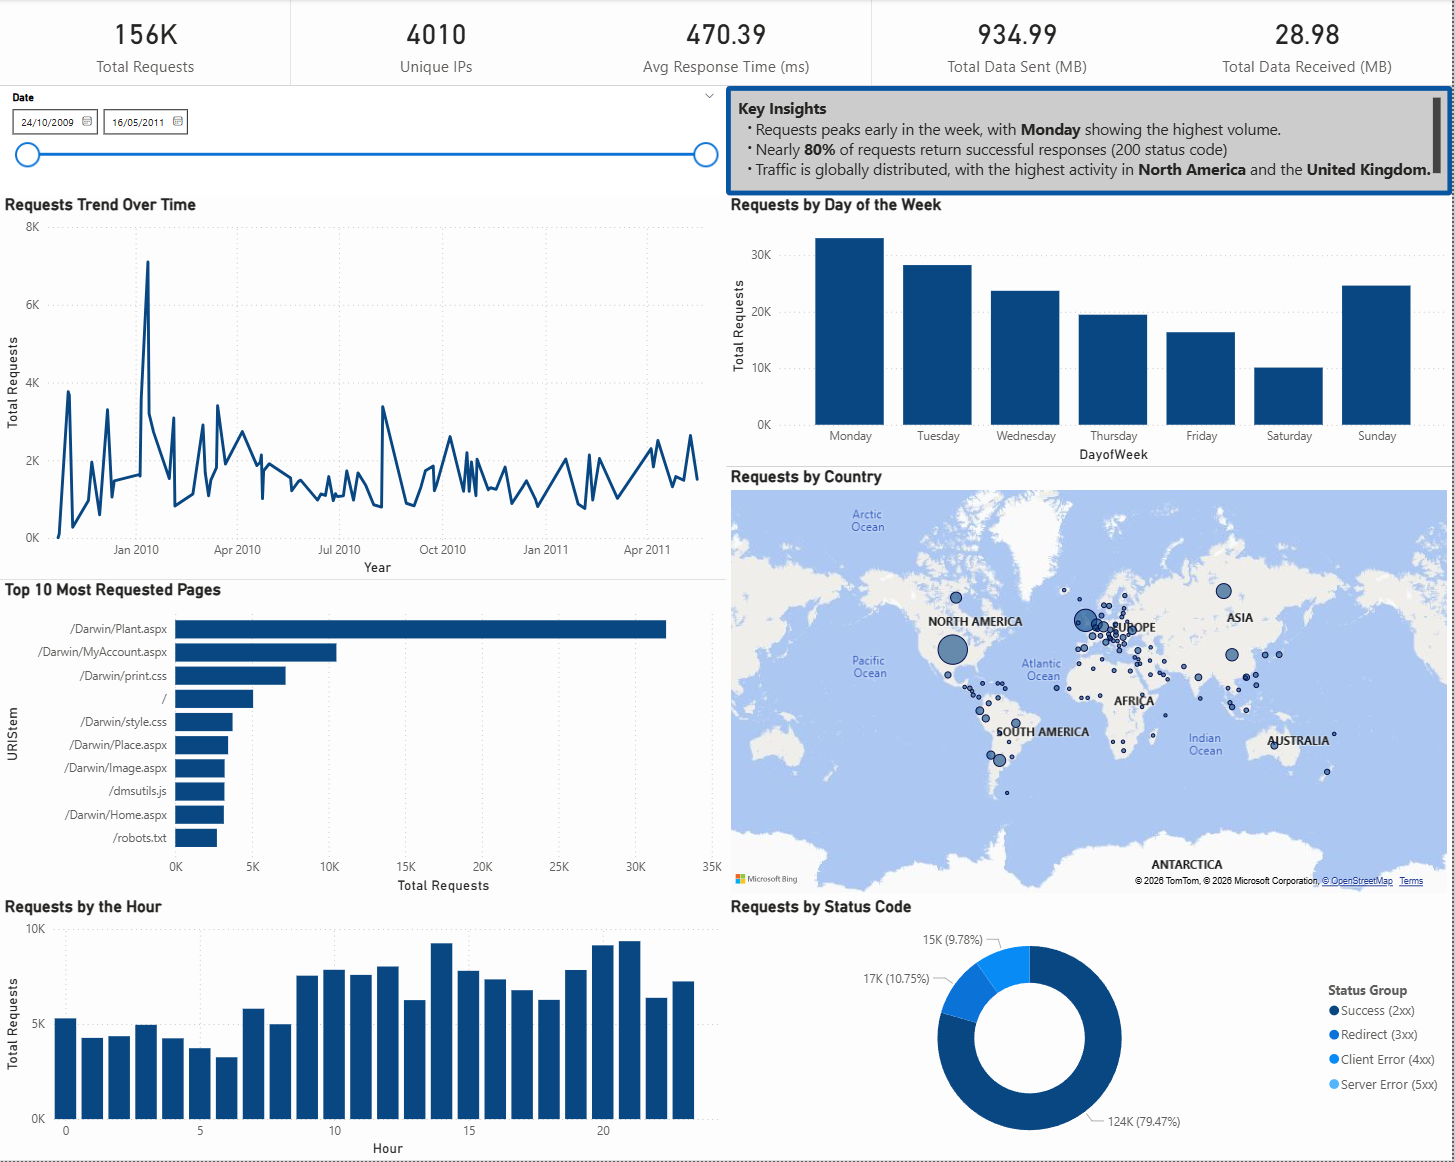

This screenshot's page, from the dashboard's own definition file:
{"tool":"powerbi","page":{"name":"Overview of Total Activity","canvas":[1500,1200],"ordinal":0},"visuals":[{"type":"card","fields":{"Values":["FactTable.Total Requests"]},"box":[0,0,300,89.5],"z":0},{"type":"card","fields":{"Values":["FactTable.Unique IPs"]},"box":[300,0,300,89.3],"z":1000},{"type":"card","fields":{"Values":["FactTable.Avg Response Time"]},"box":[600,0,300,89.3],"z":2000},{"type":"card","fields":{"Values":["FactTable.Total MB Sent"]},"box":[900,0,300,89.3],"z":3000},{"type":"card","fields":{"Values":["FactTable.Total MB Received"]},"box":[1200,0,300,89.3],"z":4000},{"type":"lineChart","title":"Requests Trend Over Time","fields":{"Y":["FactTable.Total Requests"],"Category":["DimDateTable.Date.Variation.Date Hierarchy.Year","DimDateTable.Date.Variation.Date Hierarchy.Quarter","DimDateTable.Date.Variation.Date Hierarchy.Month","DimDateTable.Date.Variation.Date Hierarchy.Day"]},"box":[0,202.6,750,397.4],"z":5000},{"type":"clusteredColumnChart","title":"Requests by Day of the Week","fields":{"Y":["FactTable.Total Requests"],"Category":["DimDateTable.DayofWeek"]},"box":[750,202.6,750,280.3],"z":6000},{"type":"slicer","fields":{"Values":["DimDateTable.Date"]},"box":[0,89.5,750,113.2],"z":7000},{"type":"clusteredBarChart","title":"Top 10 Most Requested Pages","fields":{"Category":["FactTable.URIStem"],"Y":["FactTable.Total Requests"]},"box":[0,600,750,327.6],"z":8000},{"type":"map","title":"Requests by Country","fields":{"Size":["FactTable.Total Requests"],"Category":["DimLocationTable.country_name"]},"box":[750,482.9,750,444.7],"z":9000},{"type":"clusteredColumnChart","title":"Requests by the Hour","fields":{"Category":["FactTable.Hour"],"Y":["FactTable.Total Requests"]},"box":[0,927.6,750,272.4],"z":10000},{"type":"donutChart","title":"Requests by Status Code","fields":{"Y":["FactTable.Total Requests"],"Category":["FactTable.Status Group"]},"box":[750,927.6,750,272.4],"z":11000},{"type":"textbox","box":[750,89.5,750,113.2],"z":12000}]}

Visuals, with their boxes in screenshot pixels (x1, y1, x2, y2), scaled from the page's 1500x1200 canvas onto the 1455x1162 screenshot:
card - FactTable.Total Requests: BBox(0, 0, 291, 87)
card - FactTable.Unique IPs: BBox(291, 0, 582, 86)
card - FactTable.Avg Response Time: BBox(582, 0, 873, 86)
card - FactTable.Total MB Sent: BBox(873, 0, 1164, 86)
card - FactTable.Total MB Received: BBox(1164, 0, 1454, 86)
"Requests Trend Over Time" lineChart: BBox(0, 196, 728, 581)
"Requests by Day of the Week" clusteredColumnChart: BBox(728, 196, 1454, 468)
slicer - DimDateTable.Date: BBox(0, 87, 728, 196)
"Top 10 Most Requested Pages" clusteredBarChart: BBox(0, 581, 728, 898)
"Requests by Country" map: BBox(728, 468, 1454, 898)
"Requests by the Hour" clusteredColumnChart: BBox(0, 898, 728, 1161)
"Requests by Status Code" donutChart: BBox(728, 898, 1454, 1161)
textbox: BBox(728, 87, 1454, 196)
